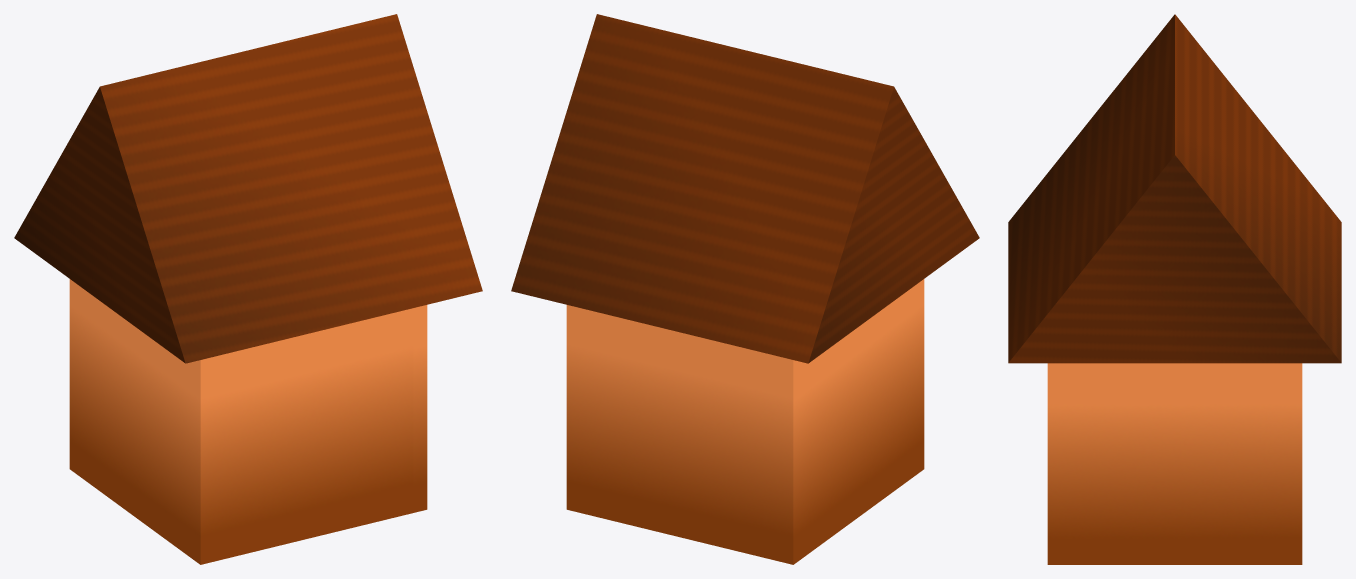
The model's file is house.glb.
3 views of the same model, side by side, from view 1: azimuth 30°, elevation 25°; view 2: azimuth 150°, elevation 25°; view 3: azimuth 270°, elevation 25° (orthographic). The views are drawn at different scales.
Visible parts, largest first — view 1: house; view 2: house; view 3: house.
Part boxes in pixels (x1,y1,x2,y2): house: [14, 14, 482, 564]; house: [511, 14, 979, 564]; house: [1008, 14, 1341, 564].
Size of the model in its own units: 2.62 by 3.7 by 2.62.
2 materials, 2 textured.
